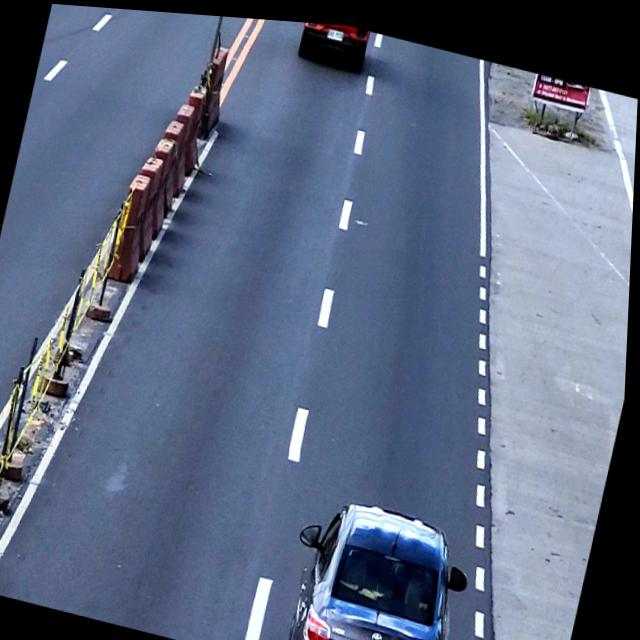Car: (277, 481, 484, 640), (295, 17, 370, 67)
License-Plate: (326, 23, 343, 37)
